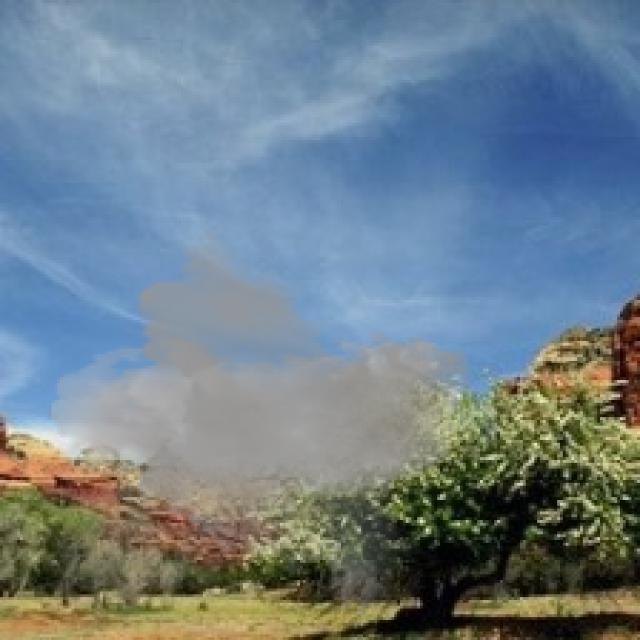Smoke: (48, 231, 474, 620)
